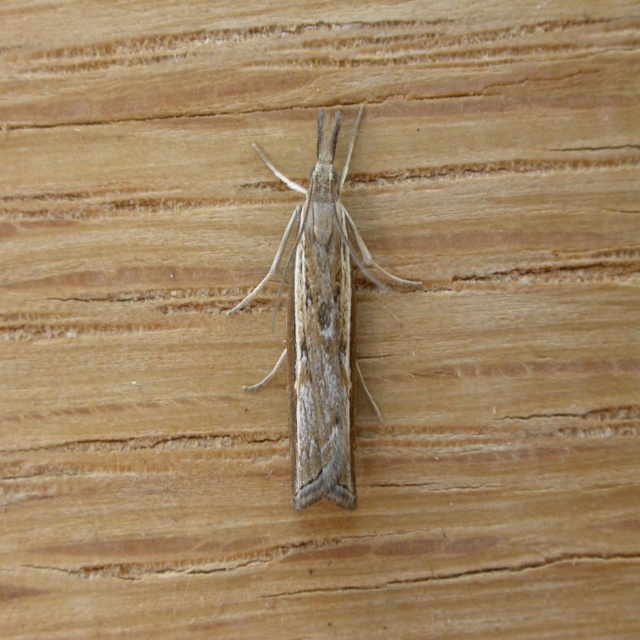Moths and butterflies: (223, 103, 422, 513)
